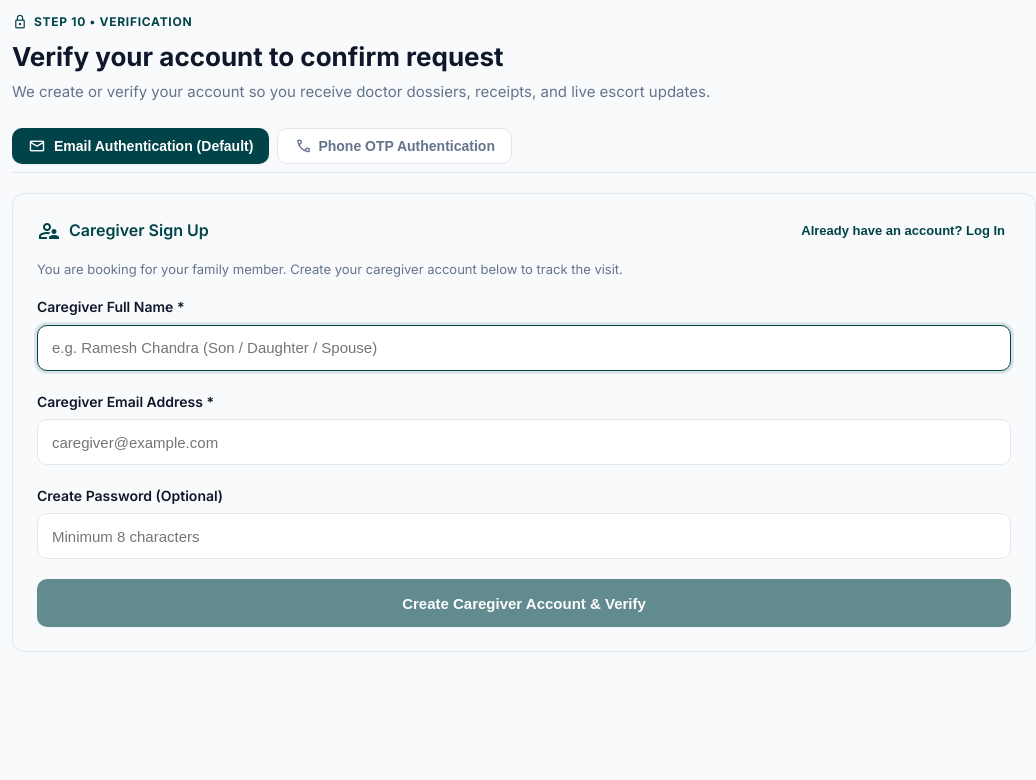
Scenario: AuthQuestion Role-Based Verification & CMS Controls › phone number authentication is hidden by default and displayed when enabled via CMS
The width and height of the screenshot is (1036, 780).
Click the button "Phone OTP Authentication": click(395, 146) [277,128,512,164]
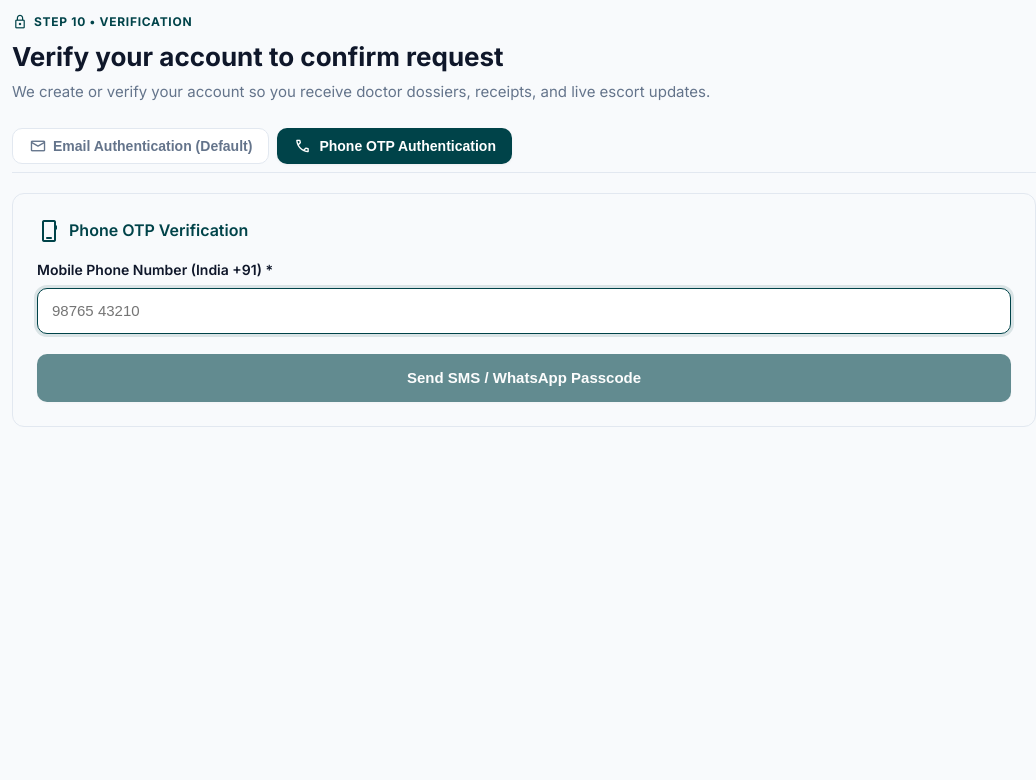
Check: the field labelled "Mobile Phone Number (India +91) *" is shown, box [37,288,1011,334]
